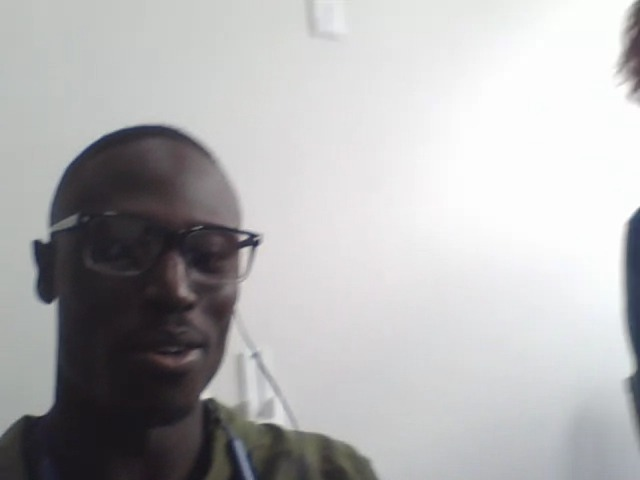face: (55, 133, 242, 429)
